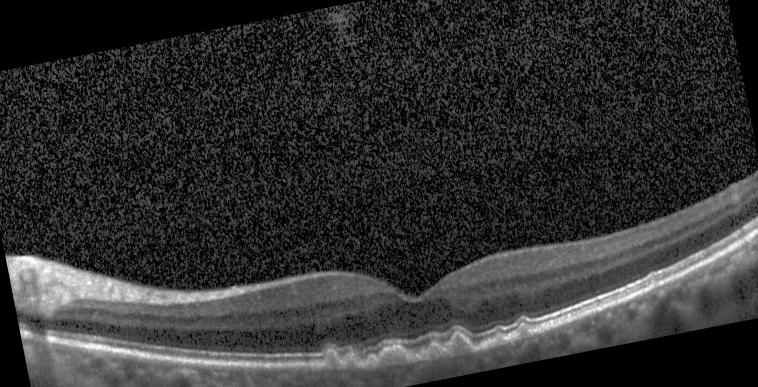retinal_drusen: (380, 345, 407, 364), (450, 334, 470, 355), (425, 344, 447, 360), (324, 350, 341, 368), (518, 320, 532, 337), (344, 354, 361, 368), (494, 333, 506, 345), (367, 355, 376, 365), (651, 280, 660, 287), (486, 341, 493, 347)
